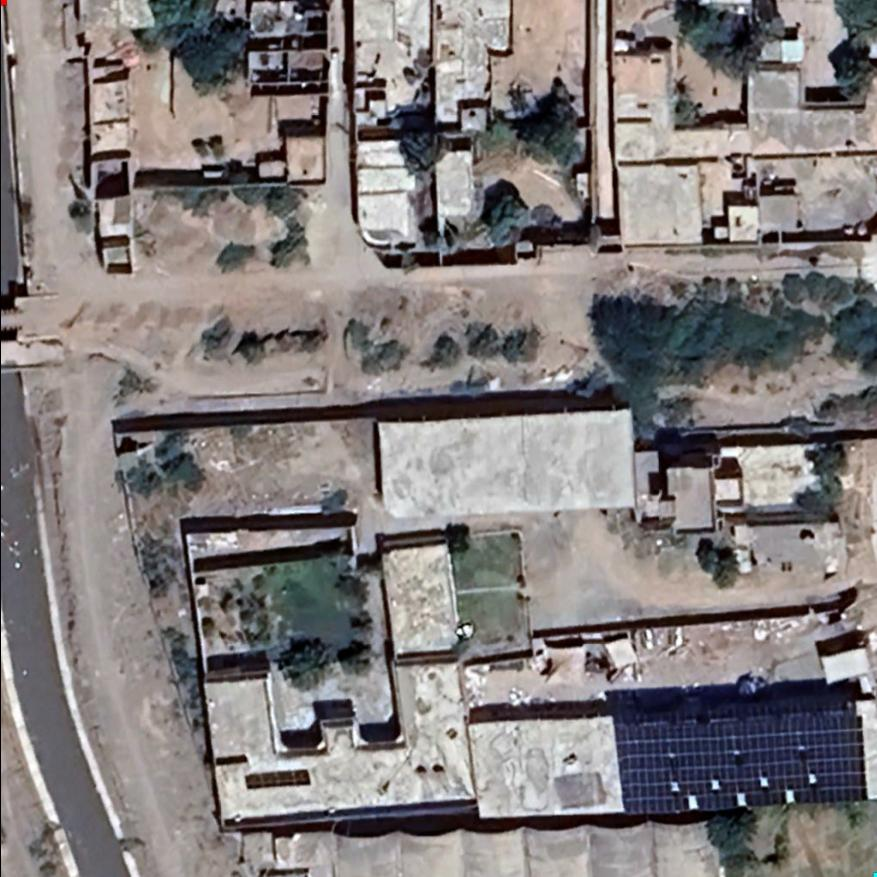Solarpanel: (605, 703, 872, 824)
